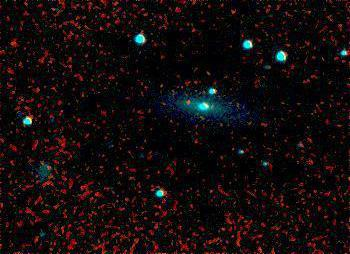star: (169, 89, 199, 119)
